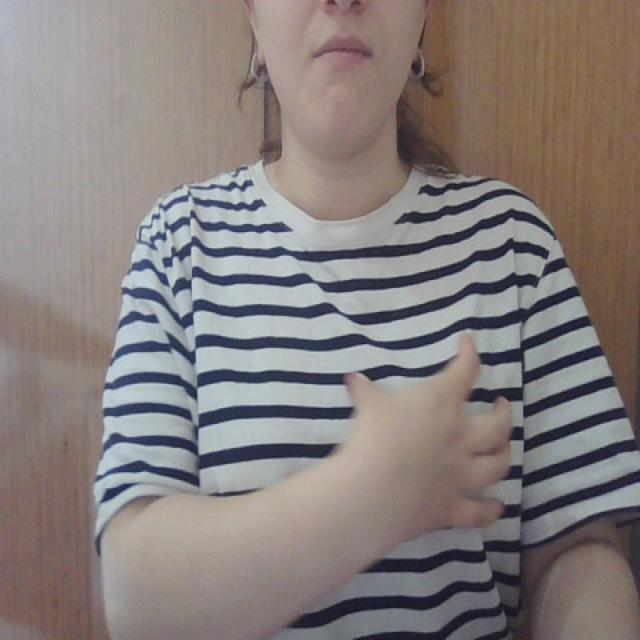Anne: (176, 328, 554, 554)
